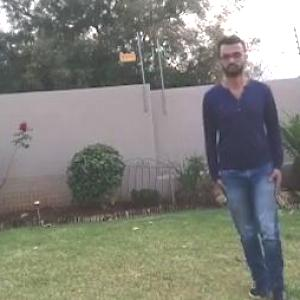follow: (201, 34, 283, 296)
